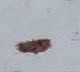Corrosion: (14, 37, 51, 54)
